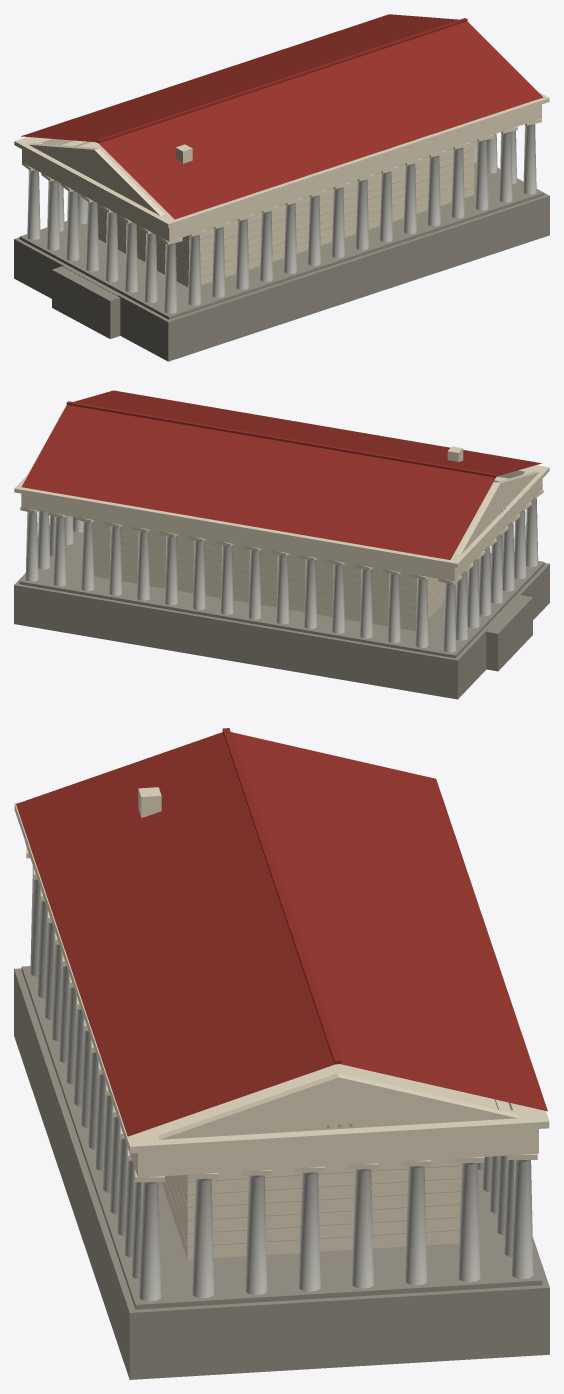
The model's file is petropavl_hram.lod.glb.
3 views of the same model, one above another, from view 1: azimuth 30°, elevation 25°; view 2: azimuth 150°, elevation 25°; view 3: azimuth 270°, elevation 25° (orthographic). The views are drawn at different scales.
Visible parts, largest first — view 1: petropavl_hram_roof, petropavl_hram_stone, petropavl_hram_wall, petropavl_hram_trim_s, petropavl_hram_wall2; view 2: petropavl_hram_roof, petropavl_hram_stone, petropavl_hram_wall, petropavl_hram_trim_s, petropavl_hram_wall2; view 3: petropavl_hram_roof, petropavl_hram_stone, petropavl_hram_wall, petropavl_hram_trim_s, petropavl_hram_wall2.
Boxes of the visible parts, x1,y1,x2,y2 form: petropavl_hram_roof: [21, 14, 543, 219]; petropavl_hram_stone: [14, 162, 549, 361]; petropavl_hram_wall: [14, 92, 549, 287]; petropavl_hram_trim_s: [27, 124, 536, 313]; petropavl_hram_wall2: [87, 141, 473, 279]; petropavl_hram_roof: [21, 390, 541, 559]; petropavl_hram_stone: [14, 532, 549, 699]; petropavl_hram_wall: [14, 392, 549, 631]; petropavl_hram_trim_s: [25, 498, 538, 652]; petropavl_hram_wall2: [93, 507, 505, 623]; petropavl_hram_roof: [16, 728, 547, 1136]; petropavl_hram_stone: [14, 966, 549, 1379]; petropavl_hram_wall: [14, 778, 549, 1259]; petropavl_hram_trim_s: [30, 865, 533, 1301]; petropavl_hram_wall2: [165, 1123, 461, 1246].
Size of the model in its own units: 38.23 by 14.46 by 23.36.
